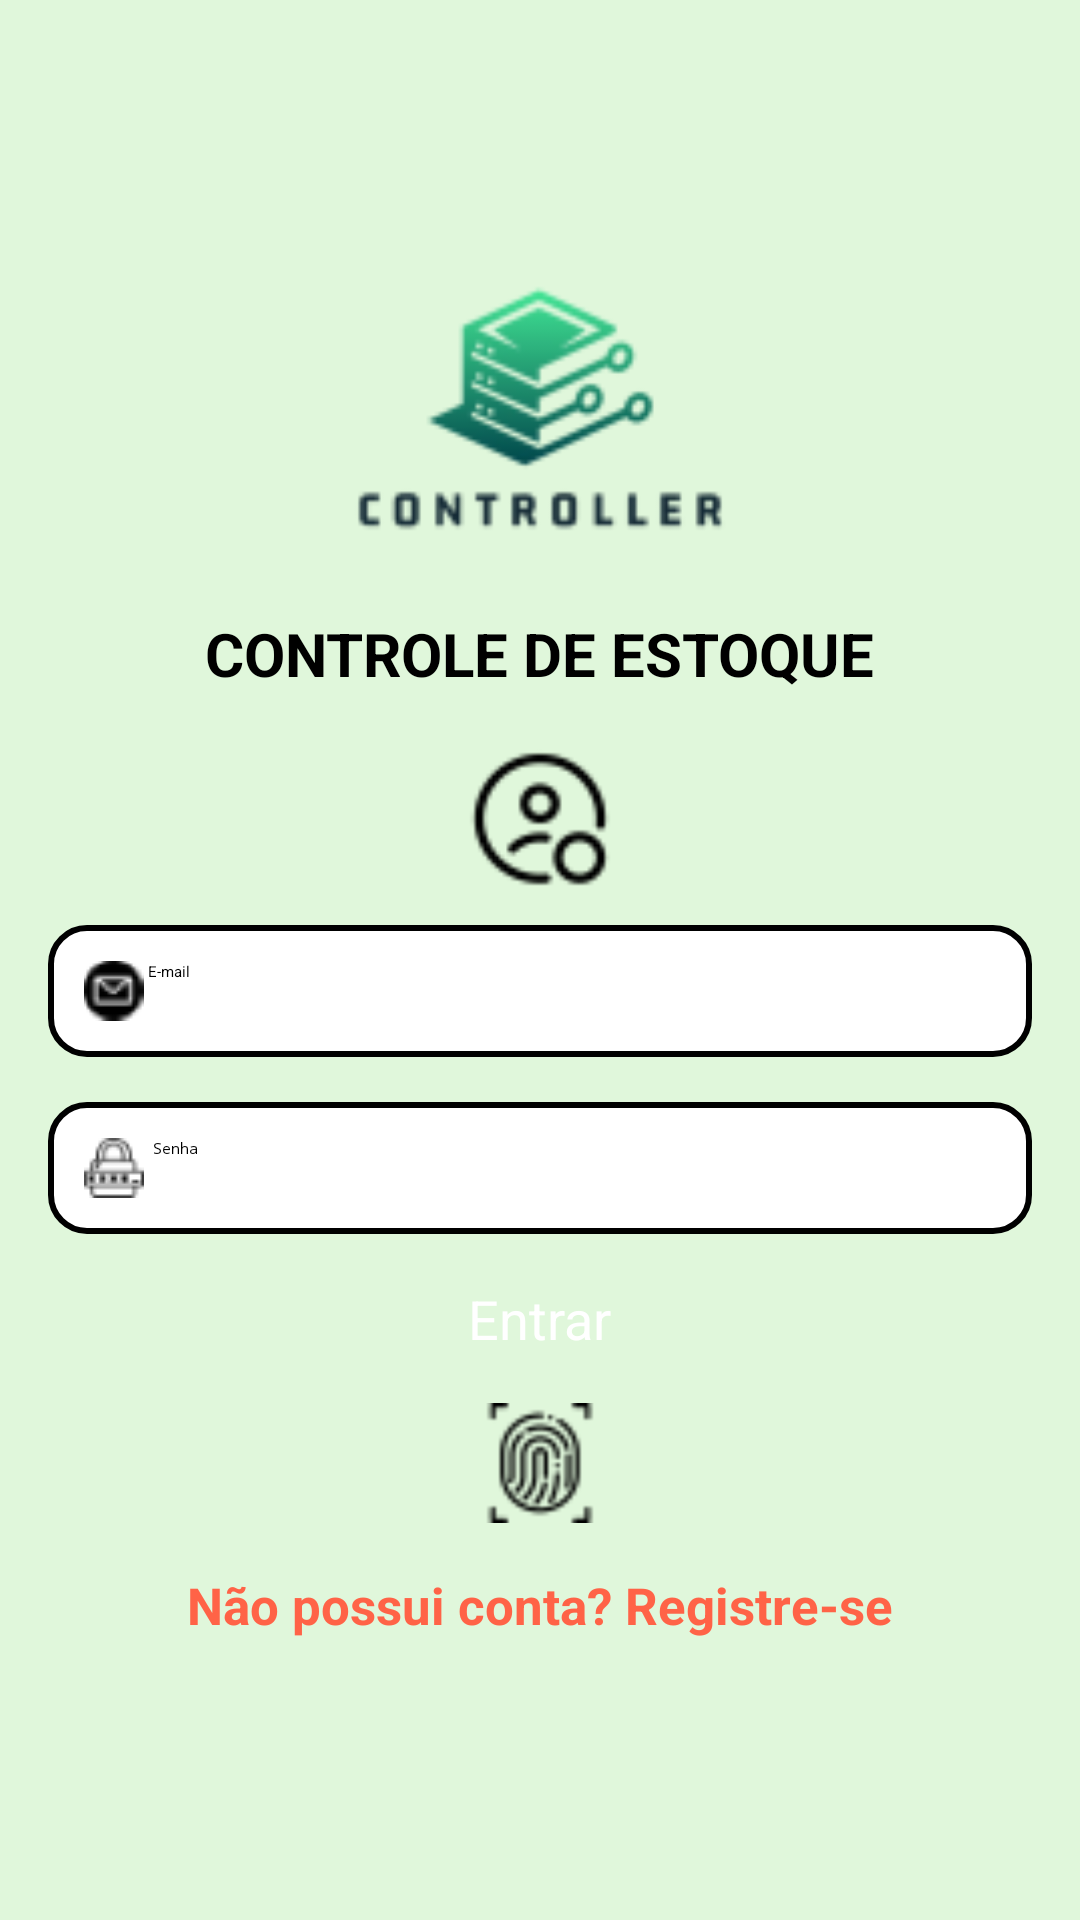

Screen size 1080*1920. Icon name, then its center in pixels as point (x, y):
fingerprint: point (540, 1463)
user: point (540, 819)
